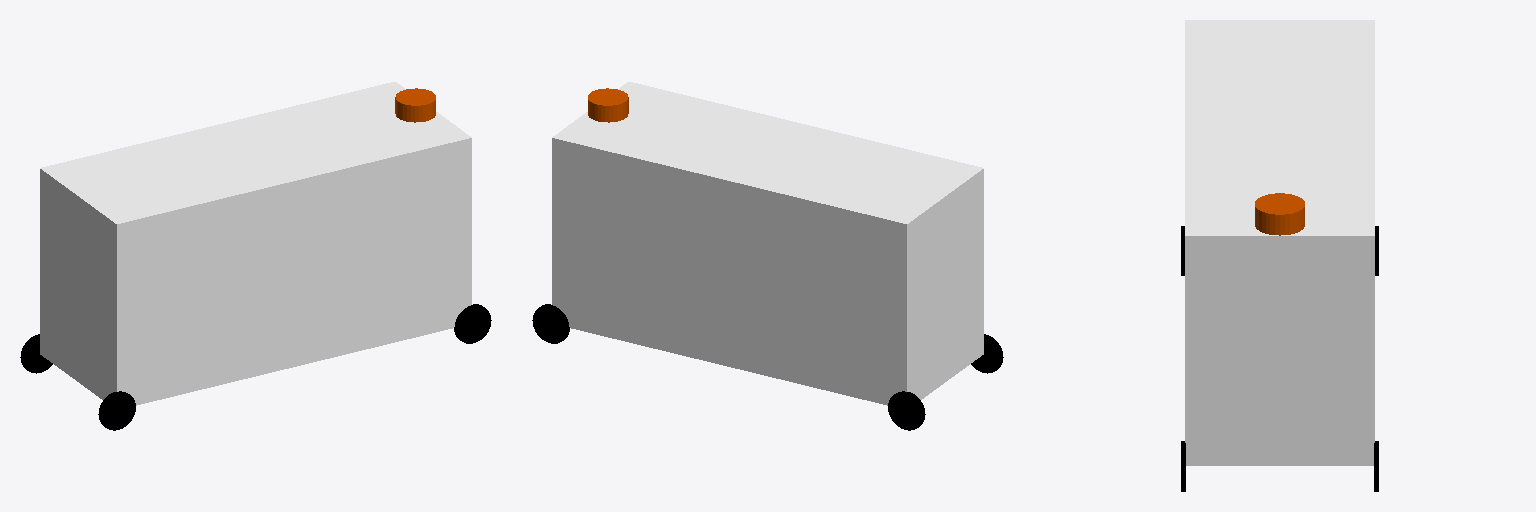
The robot description file, URDF, robot "myfirst":
<?xml version="1.0"?>
<robot name="myfirst">

<material name="white">
<color rgba="1 1 1 1"/>
</material>

<material name="black">
<color rgba="0 0 0 1"/>
</material>

  <link name="base_link">
    <visual>
      <geometry>
        <box size="2 0.75 1"/>
      </geometry>
      <material name="white"/>
    </visual>
    <collision>
    <geometry>
      <box size="2 0.75 1"/>
    </geometry>
    </collision>
    <inertial>
    <mass value="10"/>
    <inertia ixx="4.16666" ixy="0" ixz="0" iyy="3.8020" iyz="0" izz="1.3020"/>
    </inertial>
  </link>
  <link name="wh">
<visual>
<material name="black"/>
<origin rpy="1.57075 0 0" xyz="0 0 0"/>
<geometry>
<cylinder length="0.02" radius="0.1"/>
</geometry>
</visual>
<collision>
<origin rpy="1.57075 0 0" xyz="0 0 0"/>
<geometry>
<cylinder length="0.02" radius="0.1"/>
</geometry>
</collision>
<inertial>
  <mass value="1"/>
  <inertia ixx="1.0" ixy="0.0" ixz="0.0" iyy="1.0" iyz="0.0" izz="1.0"/>
</inertial>
  </link>
  <joint name="left_front_wheel_joint" type="continuous">
  <axis rpy="0 0 0" xyz="0 1 0"/>
<parent link="base_link"/>
<child link="wh"/>
<origin xyz="1 0.38 -0.5"/>
  </joint>


     <gazebo reference="wh">
         <mu1 value="200.0"/>
         <mu2 value="100.0"/>
         <kp value="10000000.0" />
         <kd value="1.0" />
         <material>Gazebo/Grey</material>
      </gazebo>

<transmission name="left_front_wheel_trans">
<type>transmission_interface/SimpleTransmission</type>
<actuator name="left_front_wheel_motor">
<mechanicalReduction>1</mechanicalReduction>
</actuator>
<joint name="left_front_wheel_joint">
<hardwareInterface>VelocityJointInterface</hardwareInterface>
</joint>
</transmission>


  <link name="whr">
<visual>
<material name="black"/>
<origin rpy="1.57075 0 0" xyz="0 0 0"/>
<geometry>
<cylinder length="0.02" radius="0.1"/>
</geometry>
</visual>
<collision>
<origin rpy="1.57075 0 0" xyz="0 0 0"/>
<geometry>
<cylinder length="0.02" radius="0.1"/>
</geometry>
</collision>
<inertial>
  <mass value="1"/>
  <inertia ixx="1.0" ixy="0.0" ixz="0.0" iyy="1.0" iyz="0.0" izz="1.0"/>
</inertial>
  </link>
  <joint name="right_front_wheel_joint" type="continuous">
  <axis rpy="0 0 0" xyz="0 1 0"/>
<parent link="base_link"/>
<child link="whr"/>
<origin xyz="1 -0.38 -0.5"/>
  </joint>


  <gazebo reference="whr">
      <mu1 value="200.0"/>
      <mu2 value="100.0"/>
      <kp value="10000000.0" />
      <kd value="1.0" />
      <material>Gazebo/Grey</material>
   </gazebo>


  <transmission name="right_front_wheel_trans">
  <type>transmission_interface/SimpleTransmission</type>
  <actuator name="rightt_front_wheel_motor">
  <mechanicalReduction>1</mechanicalReduction>
  </actuator>
  <joint name="right_front_wheel_joint">
  <hardwareInterface>VelocityJointInterface</hardwareInterface>
  </joint>
  </transmission>


  <link name="whbr">
<visual>
<material name="black"/>
<origin rpy="1.57075 0 0" xyz="0 0 0"/>
<geometry>
<cylinder length="0.02" radius="0.1"/>
</geometry>
</visual>
<collision>
<origin rpy="1.57075 0 0" xyz="0 0 0"/>
<geometry>
<cylinder length="0.02" radius="0.1"/>
</geometry>
</collision>
<inertial>
  <mass value="1"/>
  <inertia ixx="1.0" ixy="0.0" ixz="0.0" iyy="1.0" iyz="0.0" izz="1.0"/>
</inertial>
  </link>
  <joint name="right_back_wheel_joint" type="continuous">
  <axis rpy="0 0 0" xyz="0 1 0"/>
<parent link="base_link"/>
<child link="whbr"/>
<origin xyz="-1 -0.38 -0.5"/>
  </joint>


  <gazebo reference="whbr">
      <mu1 value="200.0"/>
      <mu2 value="100.0"/>
      <kp value="10000000.0" />
      <kd value="1.0" />
      <material>Gazebo/Grey</material>
   </gazebo>

  <transmission name="right_back_wheel_trans">
  <type>transmission_interface/SimpleTransmission</type>
  <actuator name="right_back_wheel_motor">
  <mechanicalReduction>1</mechanicalReduction>
  </actuator>
  <joint name="right_back_wheel_joint">
  <hardwareInterface>VelocityJointInterface</hardwareInterface>
  </joint>
  </transmission>



  <link name="whbl">
<visual>
<material name="black"/>
<origin rpy="1.57075 0 0" xyz="0 0 0"/>
<geometry>
<cylinder length="0.02" radius="0.1"/>
</geometry>
</visual>
<collision>
<origin rpy="1.57075 0 0" xyz="0 0 0"/>
<geometry>
<cylinder length="0.02" radius="0.1"/>
</geometry>
</collision>
<inertial>
  <mass value="1"/>
  <inertia ixx="1.0" ixy="0.0" ixz="0.0" iyy="1.0" iyz="0.0" izz="1.0"/>
</inertial>
  </link>
  <joint name="left_back_wheel_joint" type="continuous">
  <axis rpy="0 0 0" xyz="0 1 0"/>
<parent link="base_link"/>
<child link="whbl"/>
<origin xyz="-1 0.38 -0.5" rpy="0 0 0"/>
  </joint>


  <gazebo reference="whbl">
      <mu1 value="200.0"/>
      <mu2 value="100.0"/>
      <kp value="10000000.0" />
      <kd value="1.0" />
      <material>Gazebo/Grey</material>
   </gazebo>

  <transmission name="left_back_wheel_trans">
  <type>transmission_interface/SimpleTransmission</type>
  <actuator name="left_back_wheel_motor">
  <mechanicalReduction>1</mechanicalReduction>
  </actuator>
  <joint name="left_back_wheel_joint">
  <hardwareInterface>VelocityJointInterface</hardwareInterface>
  </joint>
  </transmission>


<link name="cam">
<visual>
  <origin xyz="0.9 0 0.54"/>
<geometry>
<cylinder length="0.1" radius="0.1"/>
</geometry>
</visual>
<collision>
  <origin xyz="0.9 0 0.54"/>
<geometry>
<cylinder length="0.1" radius="0.1"/>
</geometry>
</collision>
<inertial>
<mass value="1"/>
<inertia ixx="0.00333" ixy="0" ixz="0" iyy="0.00333" iyz="0" izz="0.005" />
</inertial>
</link>

<joint name="camjoi" type="fixed">
<parent link="base_link"/>
<child link="cam"/>
</joint>

<gazebo reference="cam">
  <sensor type="camera" name="camera1">
       <update_rate>30.0</update_rate>
       <camera name="head">
         <visualize>true</visualize>
         <horizontal_fov>1.3962634</horizontal_fov>
         <image>
           <width>800</width>
           <height>800</height>
           <format>R8G8B8</format>
         </image>
         <clip>
           <near>0.02</near>
           <far>300</far>
         </clip>
         <noise>
           <type>gaussian</type>
           <!-- Noise is sampled independently per pixel on each frame.
                That pixel's noise value is added to each of its color
                channels, which at that point lie in the range [0,1]. -->
           <mean>0.0</mean>
           <stddev>0.007</stddev>
         </noise>
       </camera>
       <plugin name="camera_controller" filename="libgazebo_ros_camera.so">
         <alwaysOn>true</alwaysOn>
         <updateRate>0.0</updateRate>
         <cameraName>tb/camera1</cameraName>
         <imageTopicName>image_raw</imageTopicName>
         <cameraInfoTopicName>camera_info</cameraInfoTopicName>
         <frameName>cam</frameName>
         <hackBaseline>0.07</hackBaseline>
         <distortionK1>0.0</distortionK1>
         <distortionK2>0.0</distortionK2>
         <distortionK3>0.0</distortionK3>
         <distortionT1>0.0</distortionT1>
         <distortionT2>0.0</distortionT2>
       </plugin>
     </sensor>
</gazebo>

  <gazebo>
    <plugin name="gazebo_ros_control" filename="libgazebo_ros_control.so">
      <robotNamespace>/</robotNamespace>
    </plugin>
  </gazebo>

</robot>

--- Render facts (derived) ---
Views: 3 orthographic renders of the robot side by side, from view 1: azimuth 30°, elevation 25°; view 2: azimuth 150°, elevation 25°; view 3: azimuth 270°, elevation 25°.
Model myfirst with 6 links and 5 joints (4 continuous, 1 fixed), rooted at base_link, posed all joints at 0.
Links seen in each view (by area): view 1: base_link, cam, whbr, whr, whbl; view 2: base_link, cam, whbl, wh, whbr; view 3: base_link, cam.
Link boxes in pixels (left/top/right/bottom): base_link: left=40, top=82, right=471, bottom=405; cam: left=395, top=88, right=435, bottom=122; whbr: left=98, top=391, right=135, bottom=430; whr: left=454, top=304, right=491, bottom=343; whbl: left=20, top=334, right=52, bottom=373; base_link: left=552, top=82, right=983, bottom=405; cam: left=588, top=88, right=628, bottom=122; whbl: left=888, top=391, right=925, bottom=430; wh: left=532, top=304, right=569, bottom=343; whbr: left=971, top=334, right=1003, bottom=373; base_link: left=1185, top=20, right=1374, bottom=465; cam: left=1255, top=193, right=1304, bottom=235.
Size in the robot's own frame: 2.2 by 0.78 by 1.19 metres.
Geometry: primitives only (box / cylinder / sphere), no mesh files.
